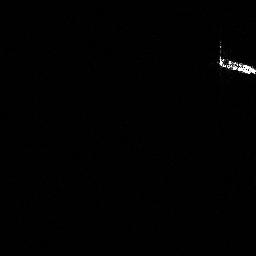ship: (218, 55, 256, 76)
